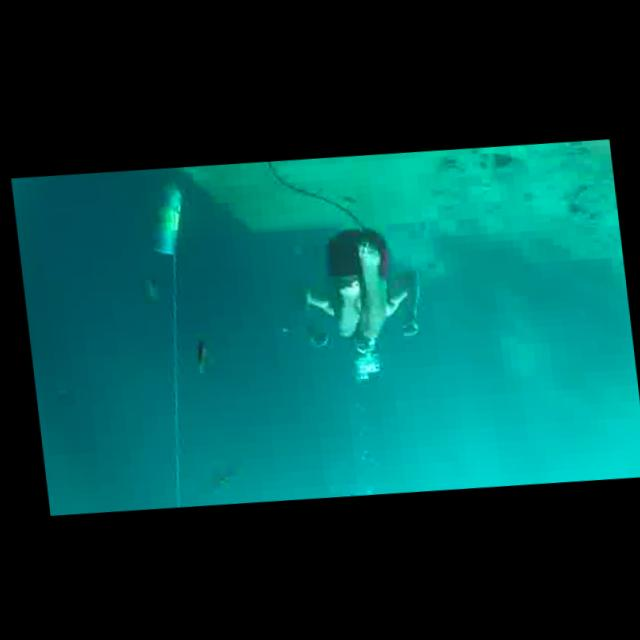human: (286, 212, 429, 358)
